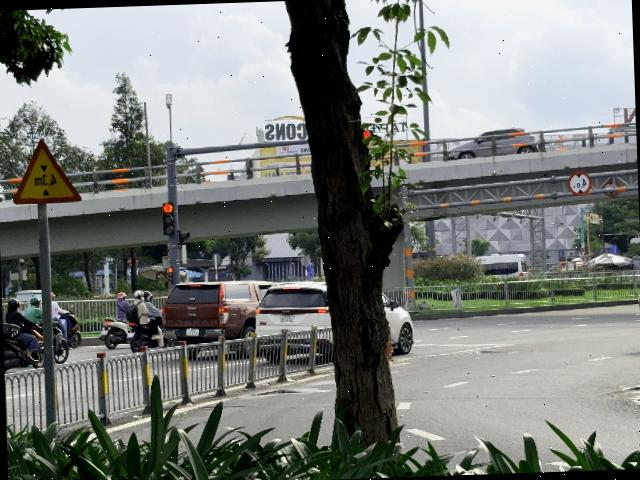chieu-cao-tinh-khong-thuc-te: (12, 138, 83, 204)
